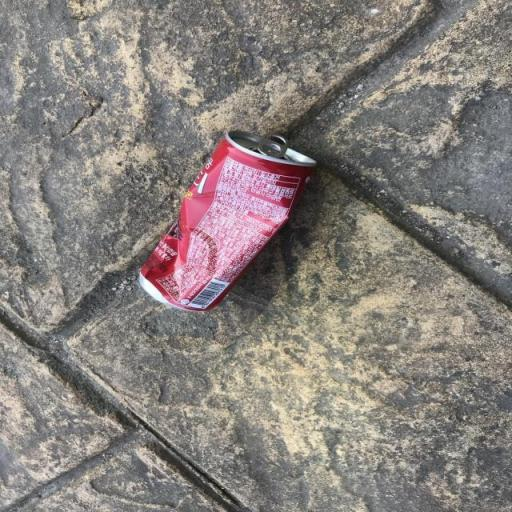metal: (116, 111, 332, 333)
